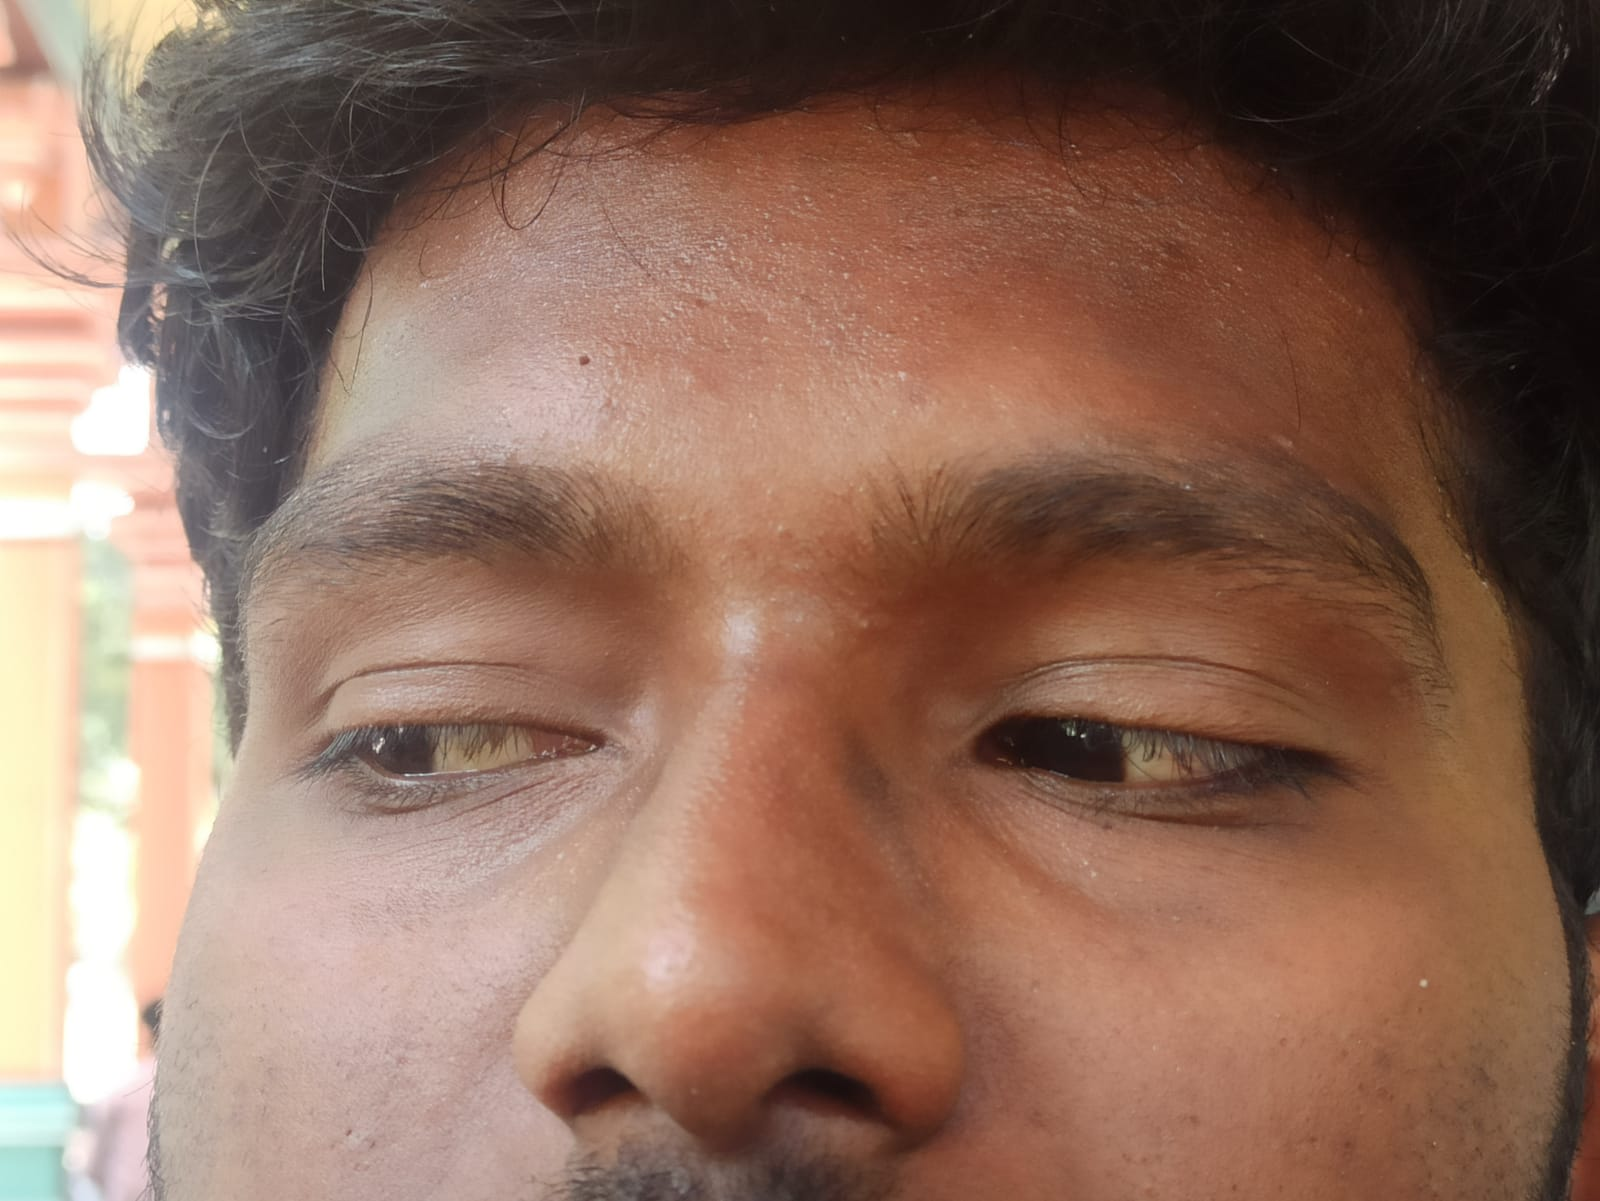EYE RIGHT: (782, 430, 1425, 858), (172, 429, 689, 857)
